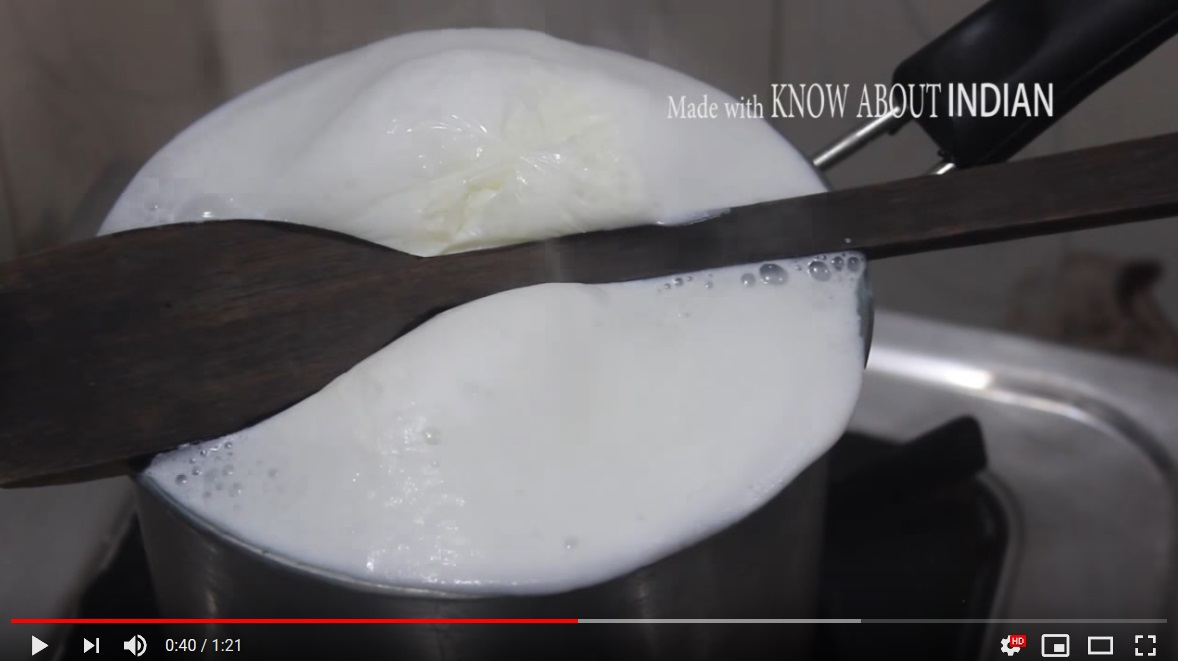Boiled: (79, 26, 859, 598)
